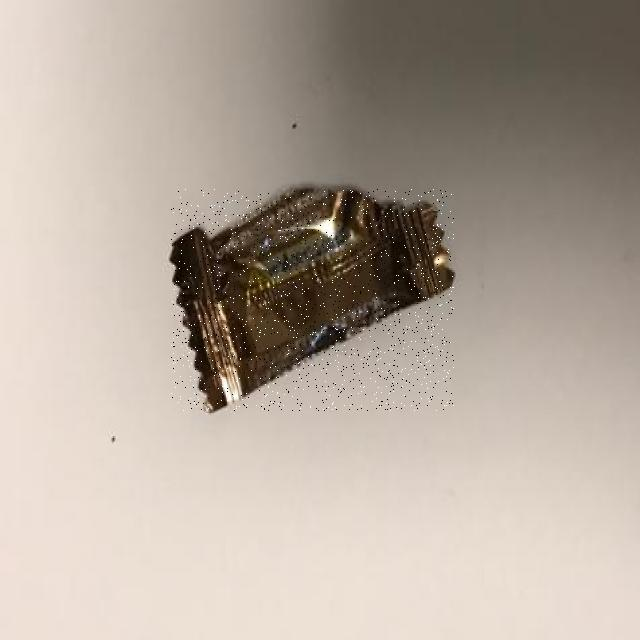wrapper: (171, 189, 454, 411)
